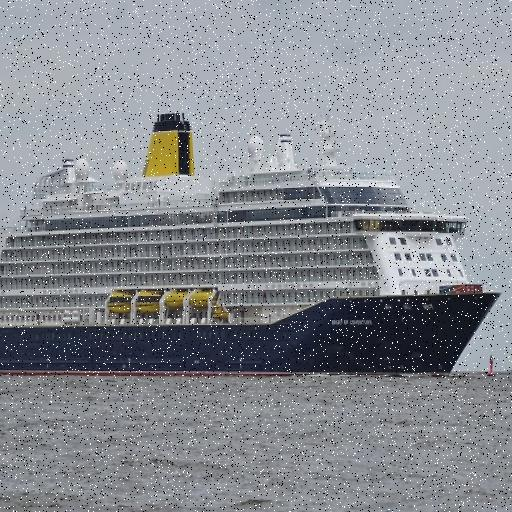cruises: (1, 109, 505, 388)
